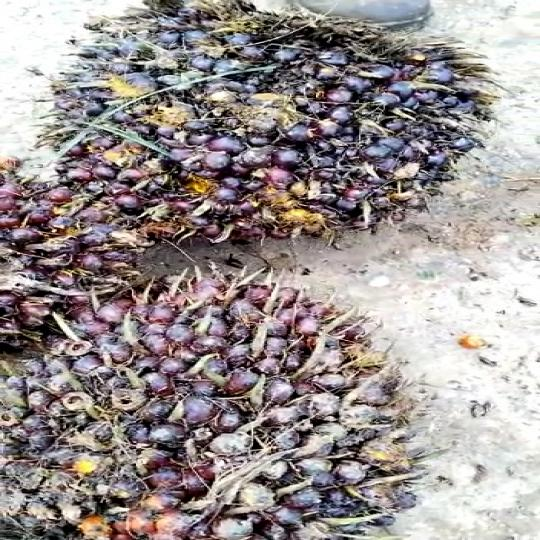kurang masak: (44, 0, 499, 249), (0, 282, 426, 540)
